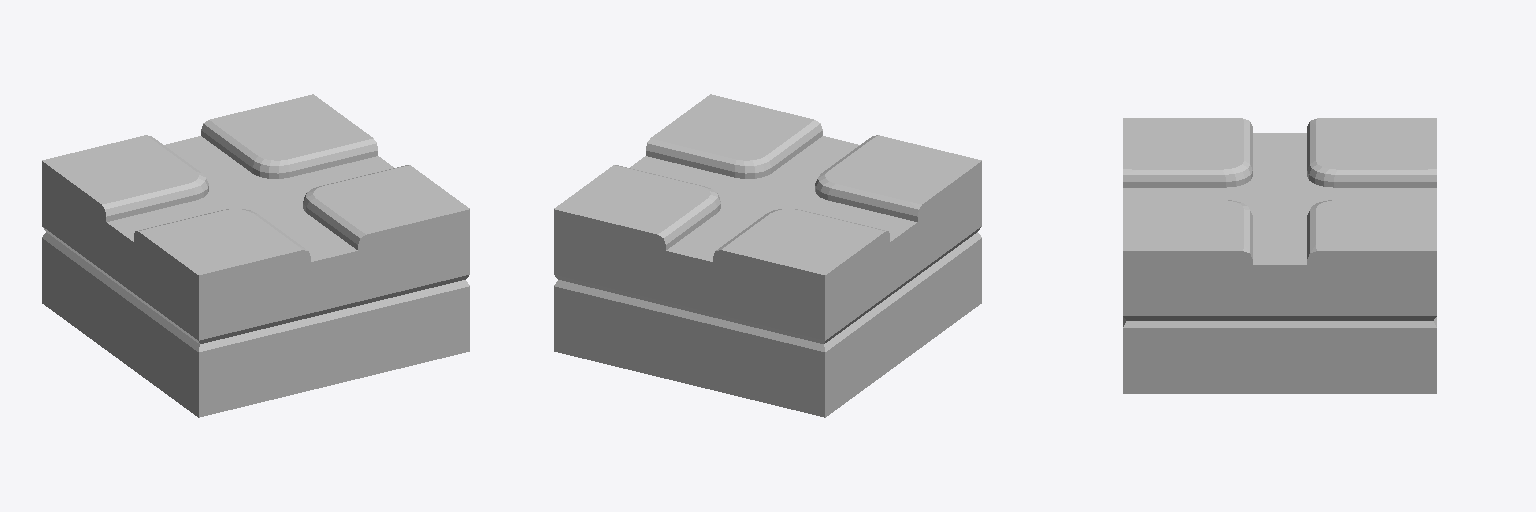
File: square_sand_roadE_detail.obj
3 views of the same model, side by side, from view 1: azimuth 30°, elevation 25°; view 2: azimuth 150°, elevation 25°; view 3: azimuth 270°, elevation 25° (orthographic).
Visible parts, largest first — view 1: square_sand_roadE_detail_Cube.368; view 2: square_sand_roadE_detail_Cube.368; view 3: square_sand_roadE_detail_Cube.368.
Boxes of the visible parts, x1,y1,x2,y2 form: square_sand_roadE_detail_Cube.368: [42, 94, 469, 417]; square_sand_roadE_detail_Cube.368: [554, 94, 981, 417]; square_sand_roadE_detail_Cube.368: [1123, 118, 1436, 393].
Size of the model in its own units: 2 by 1 by 2.